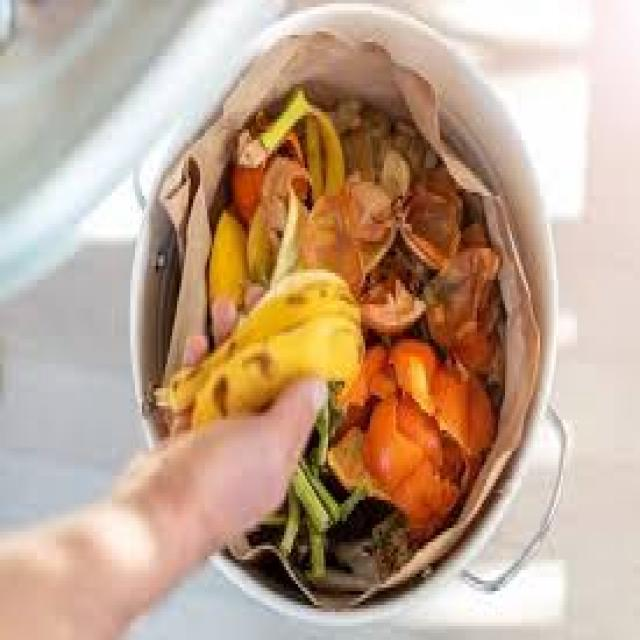Wet: (147, 36, 520, 621)
